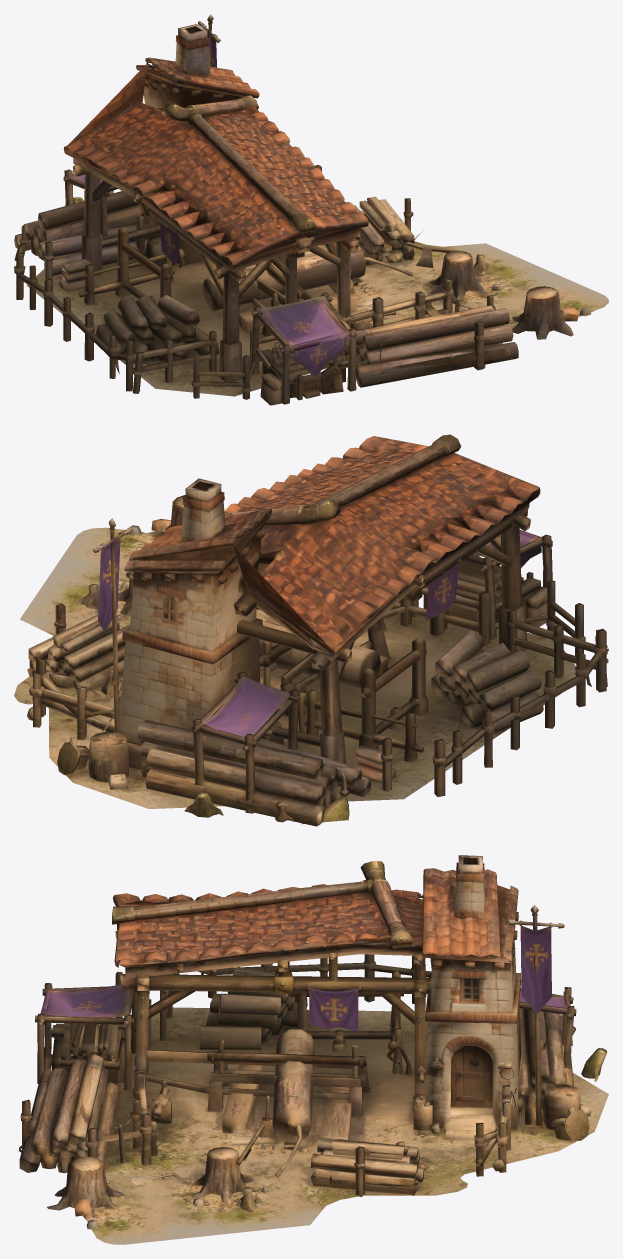
File: Workshop.fbx
3 renders of one model, top to bottom at view 1: azimuth 30°, elevation 25°; view 2: azimuth 150°, elevation 25°; view 3: azimuth 270°, elevation 25°, orthographic. The views are drawn at different scales.
Parts seen in each view (by area): view 1: BZT wooden workshop; view 2: BZT wooden workshop; view 3: BZT wooden workshop.
Part boxes in pixels (<box>): BZT wooden workshop: <box>14,14,608,405</box>; BZT wooden workshop: <box>14,434,608,826</box>; BZT wooden workshop: <box>18,855,608,1244</box>.
Size of the model in its own units: 99.95 by 45.75 by 99.95.
